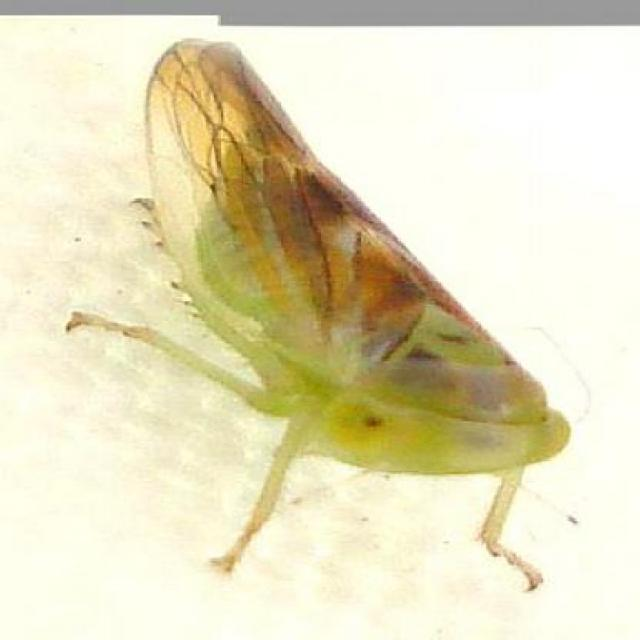green-leafhopper: (135, 39, 574, 508)
